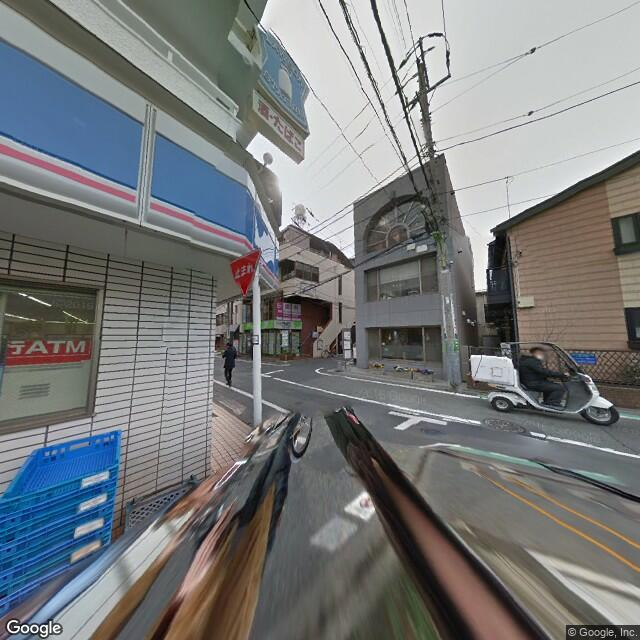lawson: (1, 29, 283, 286), (252, 14, 313, 133)
